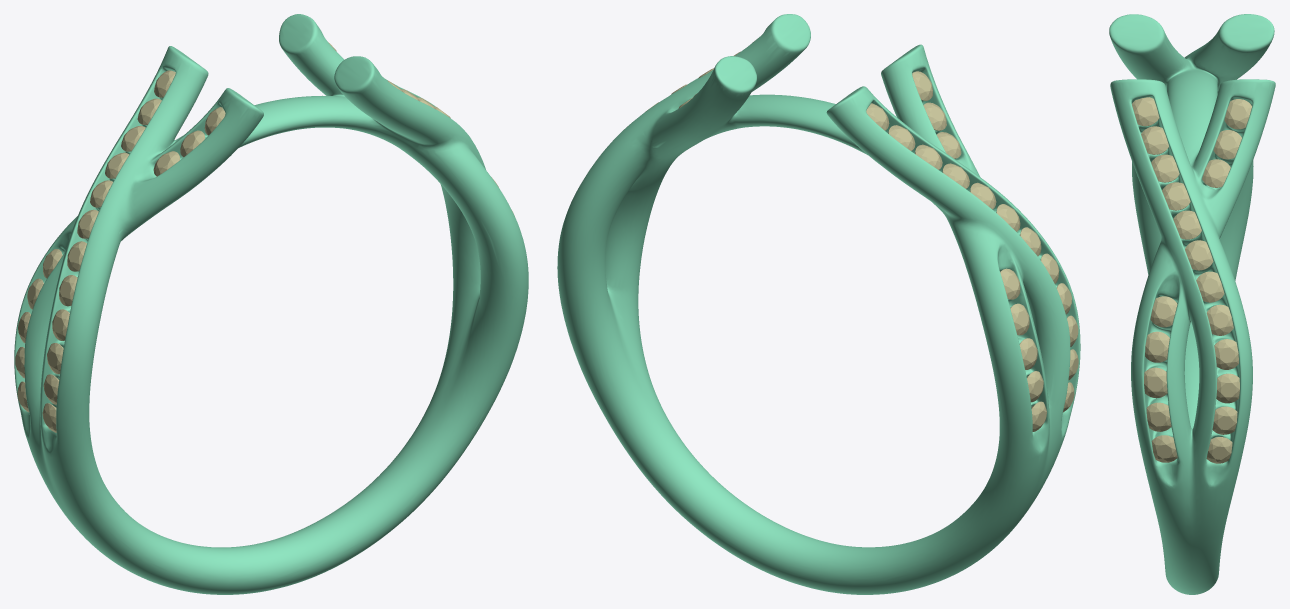
The picture shows the model from 3 angles, left to right: view 1: azimuth 30°, elevation 25°; view 2: azimuth 150°, elevation 25°; view 3: azimuth 270°, elevation 25°; orthographic projection.
Parts seen in each view (by area): view 1: Metal02; view 2: Metal02; view 3: Metal02, Diamond_Gem.036, Diamond_Gem.024, Diamond_Gem.025, Diamond_Gem.035, Diamond_Gem.023, Diamond_Gem.026, Diamond_Gem.039, Diamond_Gem.034, Diamond_Gem.038, Diamond_Gem.022, Diamond_Gem.027 (+9 smaller).
Part boxes in pixels (<box>): Metal02: <box>14,14,528,594</box>; Metal02: <box>557,14,1080,594</box>; Metal02: <box>1109,14,1275,594</box>; Diamond_Gem.036: <box>1150,296,1177,327</box>; Diamond_Gem.024: <box>1207,304,1233,335</box>; Diamond_Gem.025: <box>1196,271,1224,302</box>; Diamond_Gem.035: <box>1145,331,1169,362</box>; Diamond_Gem.023: <box>1214,339,1238,369</box>; Diamond_Gem.026: <box>1185,240,1213,270</box>; Diamond_Gem.039: <box>1224,99,1251,129</box>; Diamond_Gem.034: <box>1144,367,1167,398</box>; Diamond_Gem.038: <box>1213,130,1241,159</box>; Diamond_Gem.022: <box>1216,373,1239,403</box>; Diamond_Gem.027: <box>1173,210,1201,239</box>.
Size of the model in its own units: 21 by 22.22 by 6.41.
